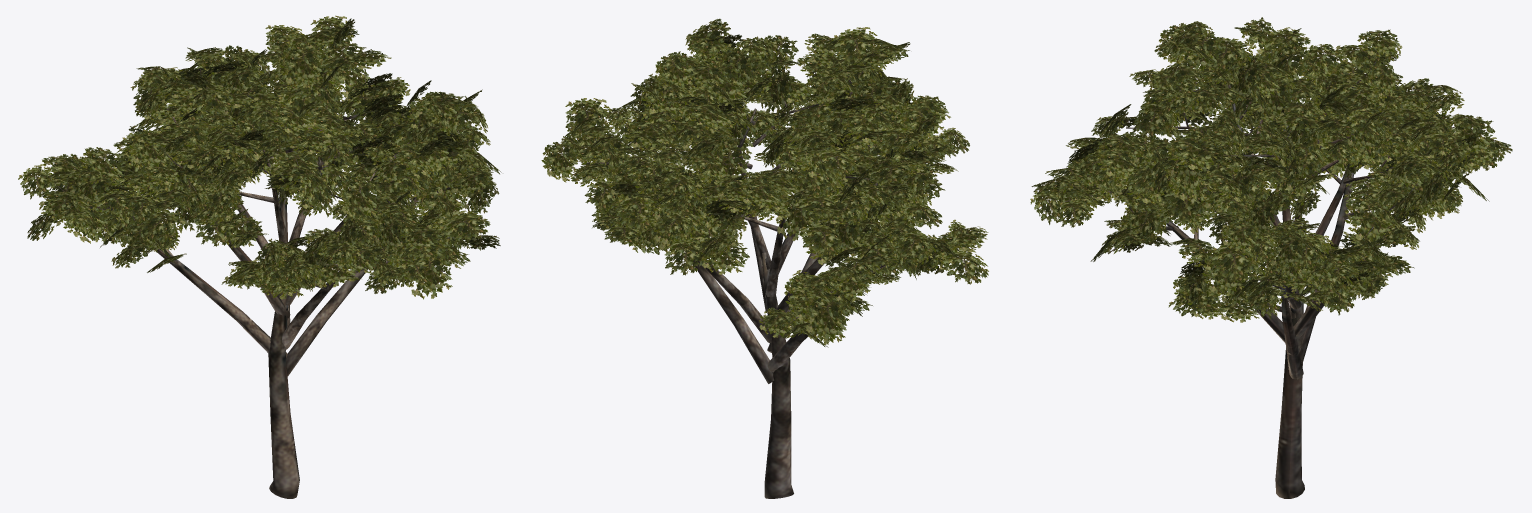
Rendered from park-sycamore.glb.
3 views of the same model, side by side, from view 1: azimuth 30°, elevation 25°; view 2: azimuth 150°, elevation 25°; view 3: azimuth 270°, elevation 25° (orthographic).
Parts seen in each view (by area): view 1: Frame; view 2: Frame; view 3: Frame.
Boxes of the visible parts, x1,y1,x2,y2 form: Frame: (18, 15, 501, 498); Frame: (541, 18, 988, 498); Frame: (1030, 17, 1512, 498).
Bounding box in the file's own units: 8.1 × 7.6 × 7.68.
2 materials, 2 textured.
